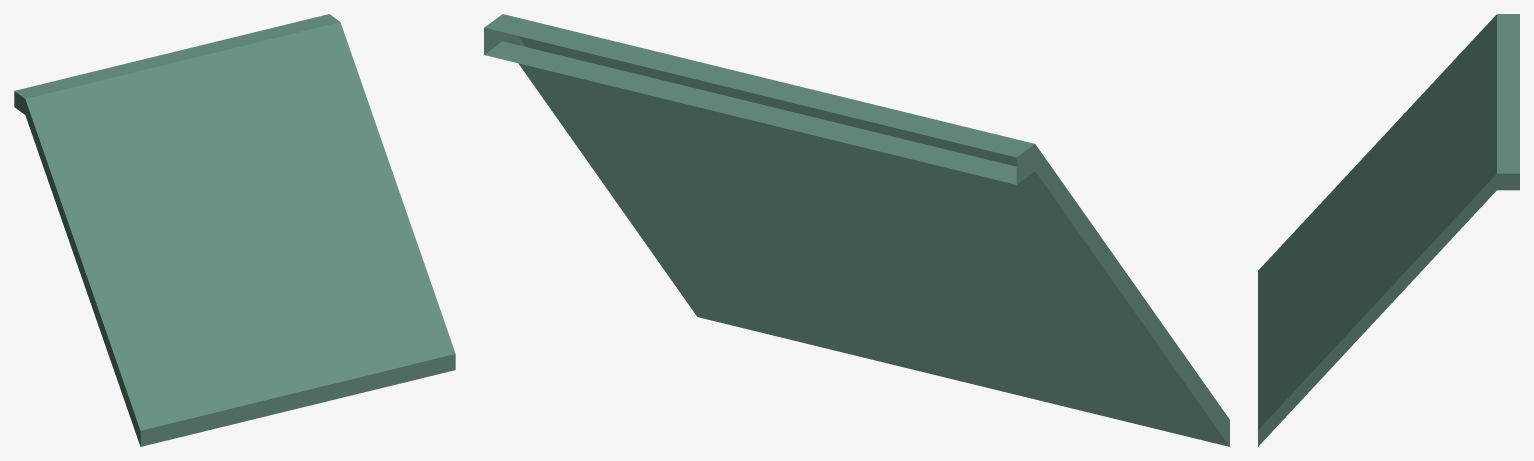
The model's file is roof01_house3.fbx.
3 views of the same model, side by side, from view 1: azimuth 30°, elevation 25°; view 2: azimuth 150°, elevation 25°; view 3: azimuth 270°, elevation 25° (orthographic). The views are drawn at different scales.
Visible parts, largest first — view 1: Roof01_house3.001; view 2: Roof01_house3.001; view 3: Roof01_house3.001.
Boxes of the visible parts, x1,y1,x2,y2 form: Roof01_house3.001: [14, 14, 455, 446]; Roof01_house3.001: [484, 14, 1229, 446]; Roof01_house3.001: [1258, 14, 1519, 446].
Bounding box in the file's own units: 448 × 358 × 311.
